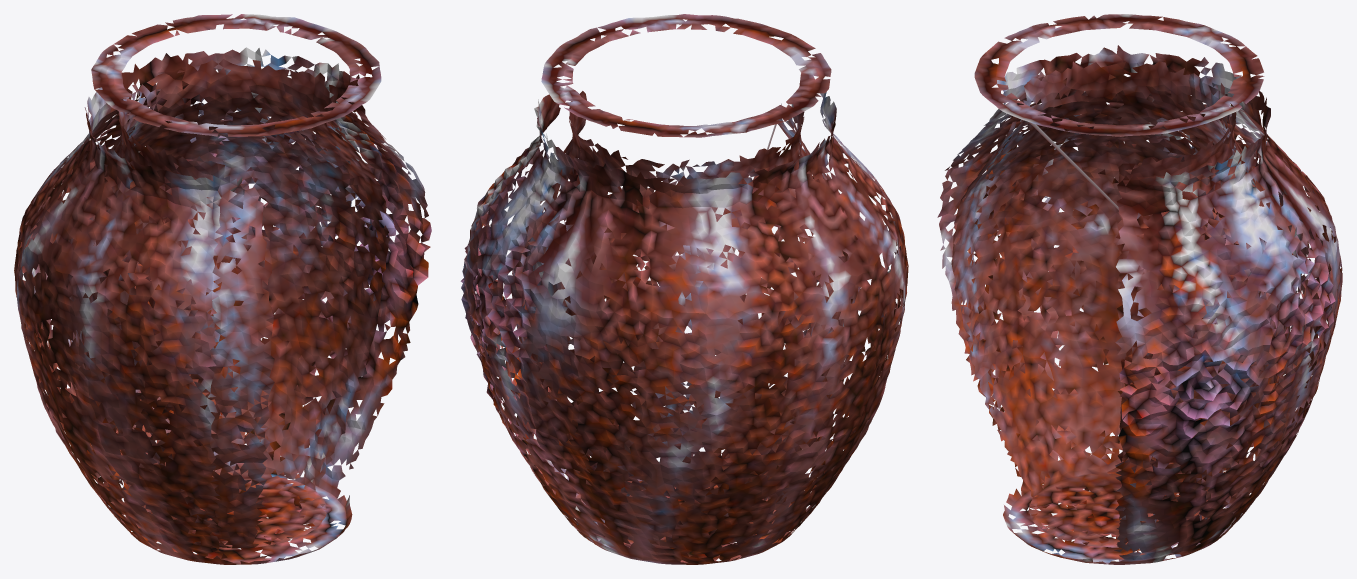
The model's file is vase2_final900.obj.
3 views of the same model, side by side, from view 1: azimuth 30°, elevation 25°; view 2: azimuth 150°, elevation 25°; view 3: azimuth 270°, elevation 25° (orthographic).
Bounding box in the file's own units: 1.57 × 1.71 × 1.41.
